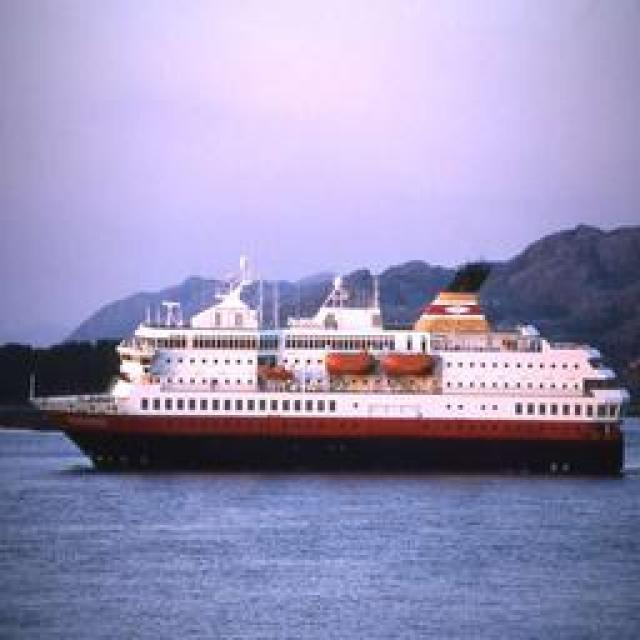Ship: (23, 282, 631, 470)
